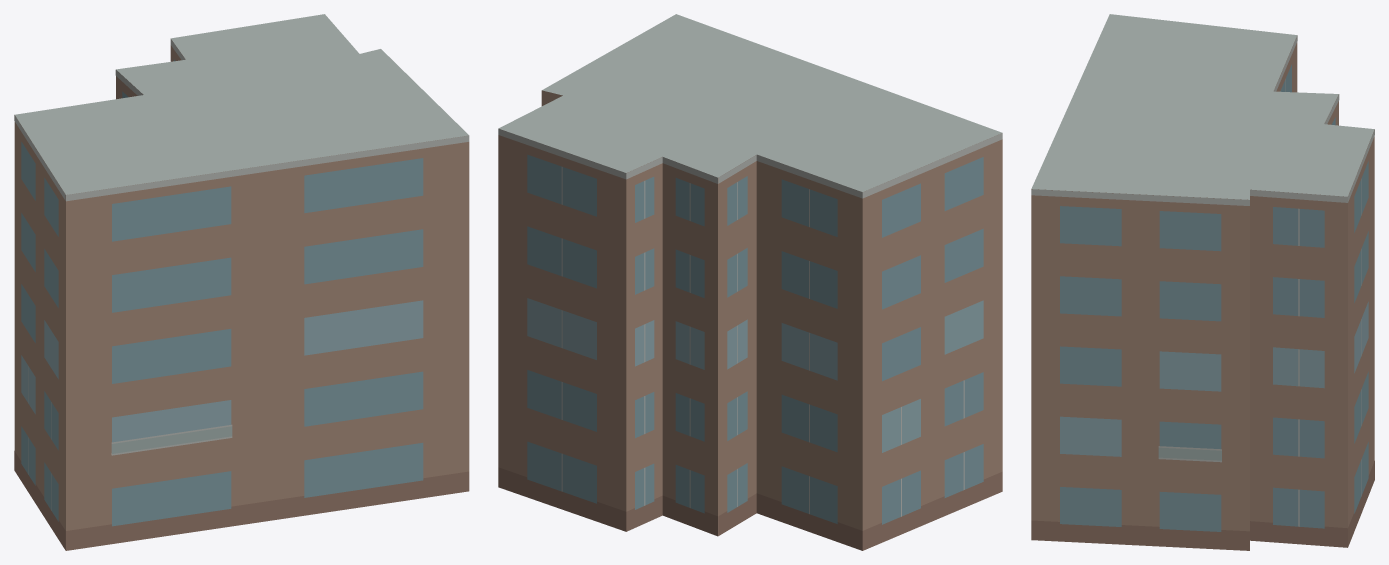
File: survey-upis-33036523.glb
3 renders of one model, left to right at view 1: azimuth 30°, elevation 25°; view 2: azimuth 150°, elevation 25°; view 3: azimuth 270°, elevation 25°, orthographic. The views are drawn at different scales.
Parts seen in each view (by area): view 1: survey-upis-33036523.tmp; view 2: survey-upis-33036523.tmp; view 3: survey-upis-33036523.tmp.
Part boxes in pixels (box(x1,y1,x2,y2)): survey-upis-33036523.tmp: box(14, 14, 469, 550); survey-upis-33036523.tmp: box(498, 14, 1002, 550); survey-upis-33036523.tmp: box(1031, 14, 1374, 550).
Size of the model in its own units: 15.57 by 13.7 by 12.16.
